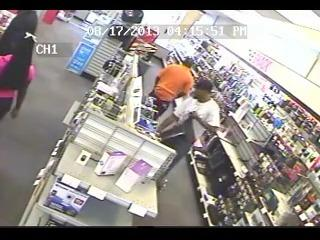shoplifting: (156, 81, 224, 183)
